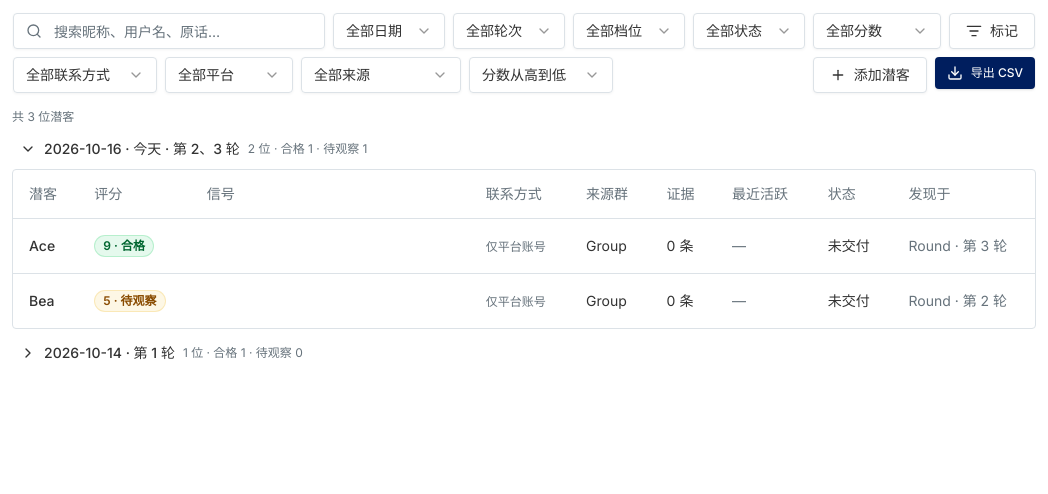
FlowLeads › opens the newest day and keeps an older one collapsed until clicked
expect the button "2026-10-16 · 今天 · 第 2、3 轮 2 位 · 合格 1 · 待观察 1" is shown: met, box [12,133,1036,165]
expect the text "Ace" is shown: met, box [29,236,55,254]
Click the button "2026-10-14 · 第 1 轮 1 位 · 合格 1 · 待观察 0" at (109, 352), box [12,336,1036,368]
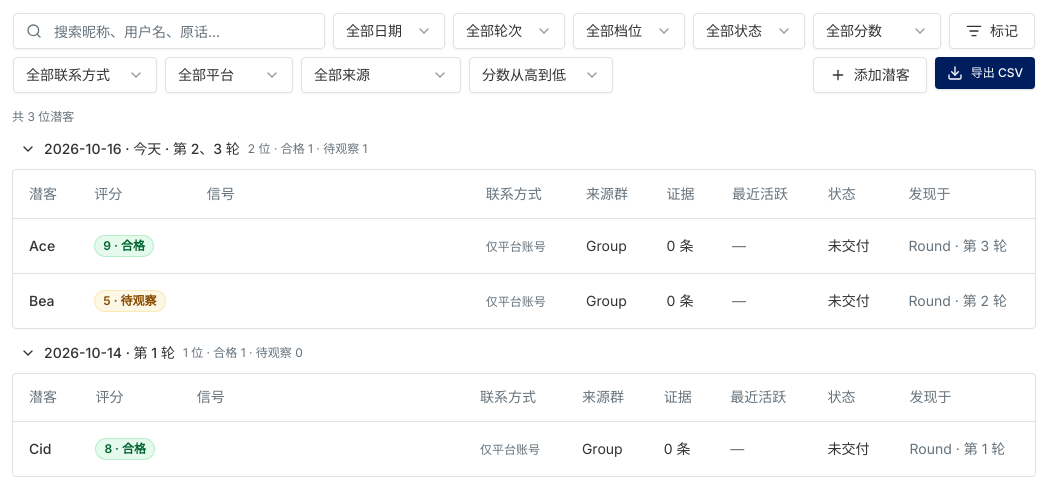
expect the text "Cid" is shown: met, box [29,440,52,457]
